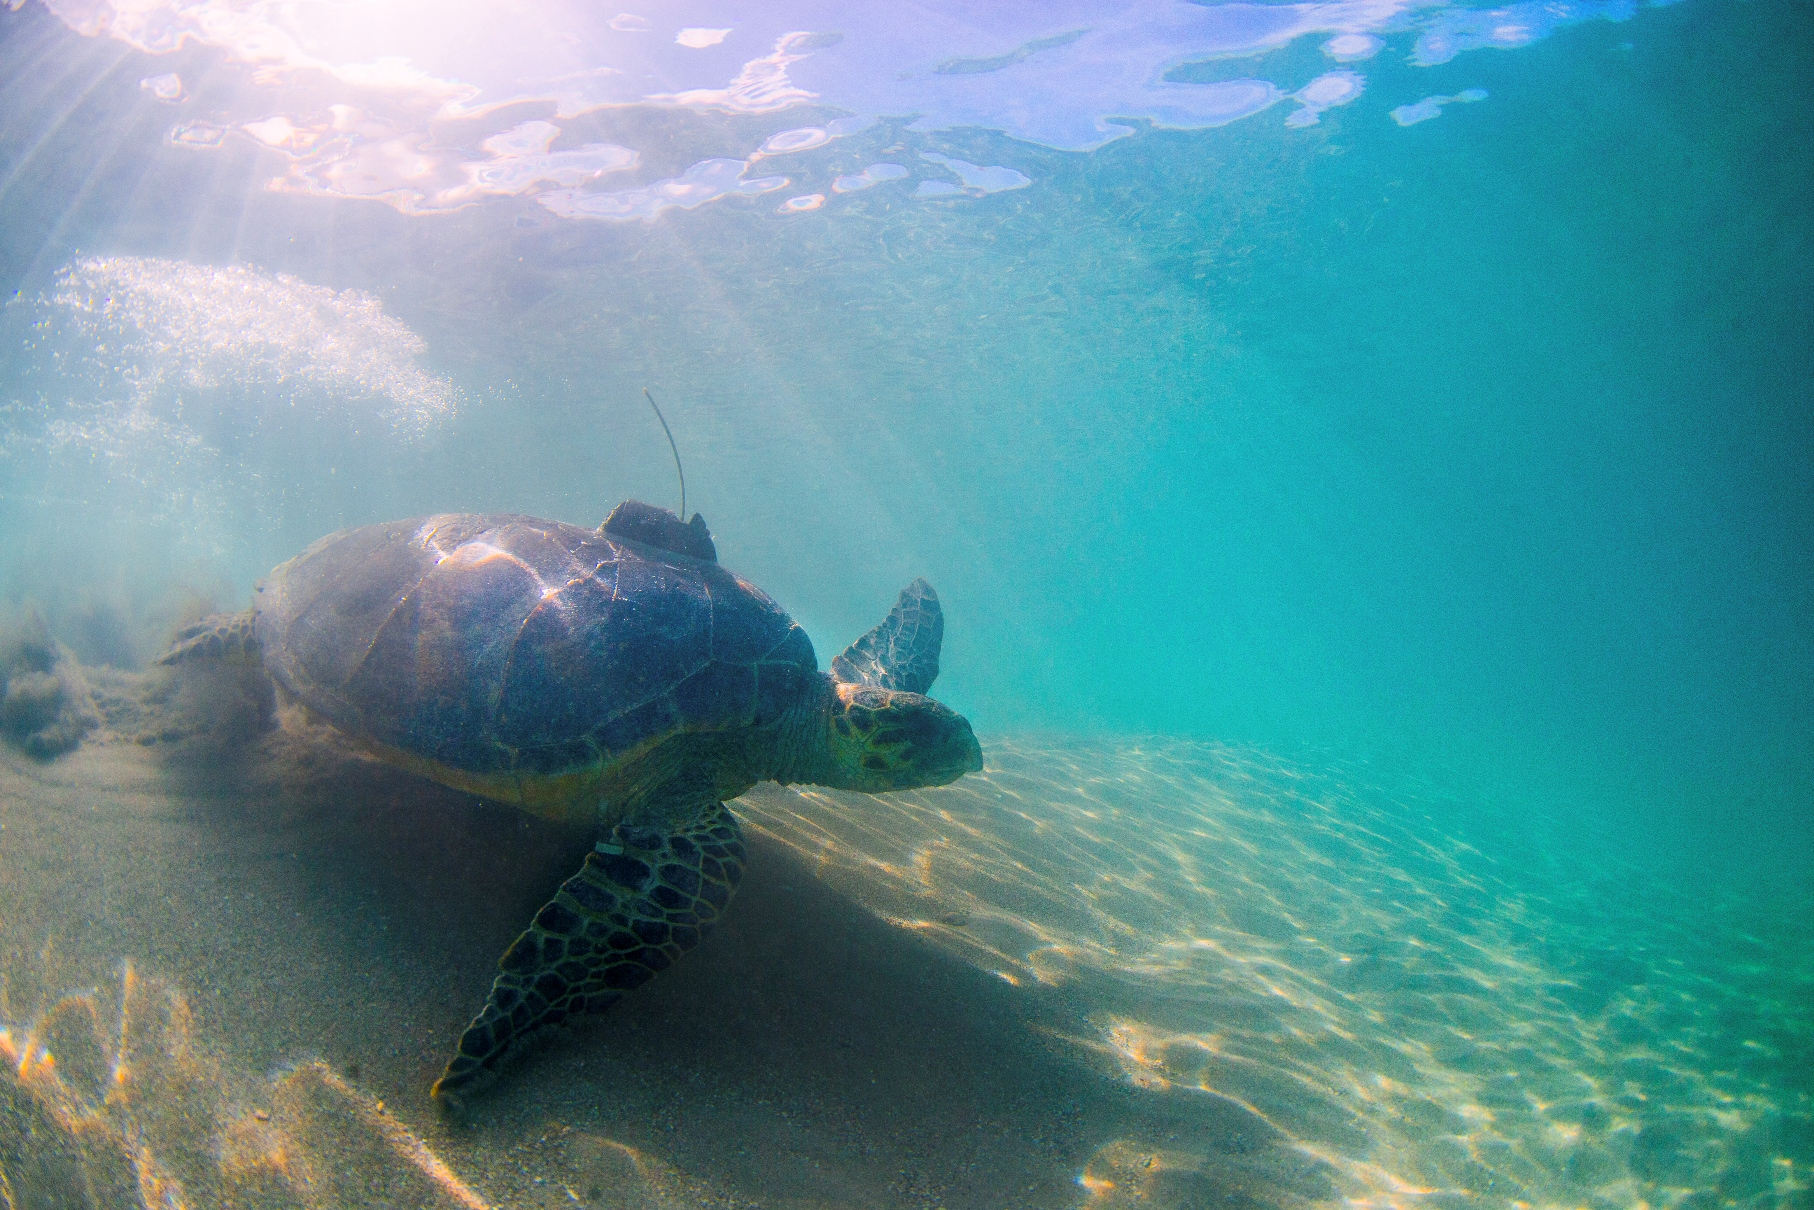trutle: (147, 502, 1024, 1063)
